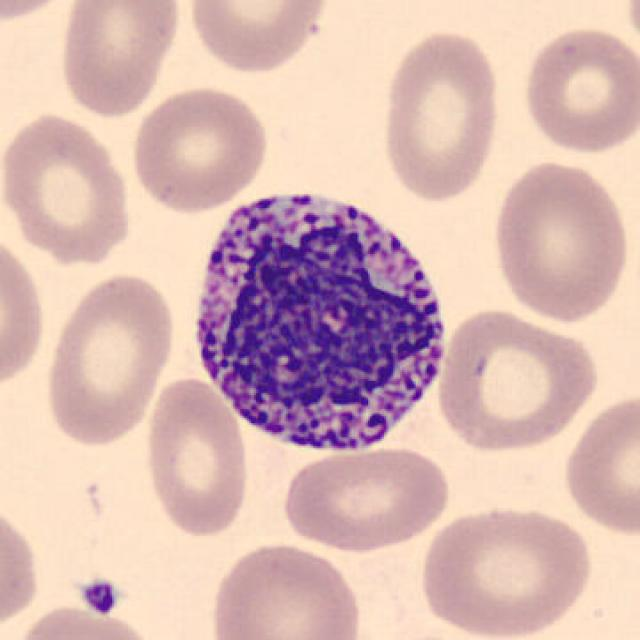Basophil: (180, 169, 460, 464)
Platelets: (76, 575, 125, 619)
RBC: (412, 499, 598, 640), (432, 305, 603, 455), (487, 155, 633, 326), (41, 270, 179, 450), (377, 25, 505, 206), (0, 108, 137, 266), (277, 442, 455, 554), (126, 81, 272, 215), (140, 374, 252, 541), (204, 537, 366, 640), (518, 21, 638, 157), (53, 0, 185, 120), (558, 390, 638, 540), (183, 0, 334, 76), (0, 227, 50, 395), (0, 495, 44, 636), (9, 601, 149, 640), (0, 0, 78, 26), (622, 0, 640, 62)
